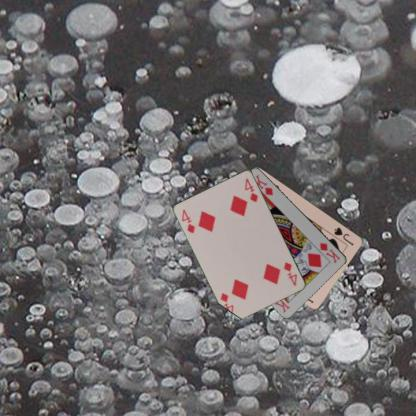4d: (179, 207, 197, 234), (282, 260, 298, 287)
Js: (332, 225, 355, 247)
Kd: (317, 240, 342, 265)
